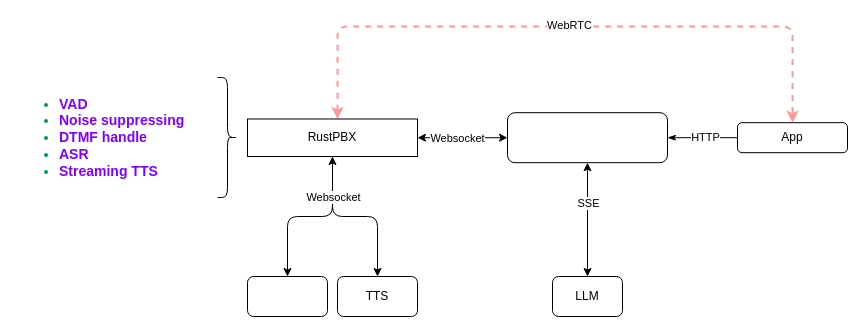
Some shapes in this 865 by 334 pixel diagram are drawn without their labels. The box of each missing label's shape, as (x1, y1, x2, y2) in pixels:
App Server: (506, 112, 668, 163)
ASR: (246, 276, 328, 316)
